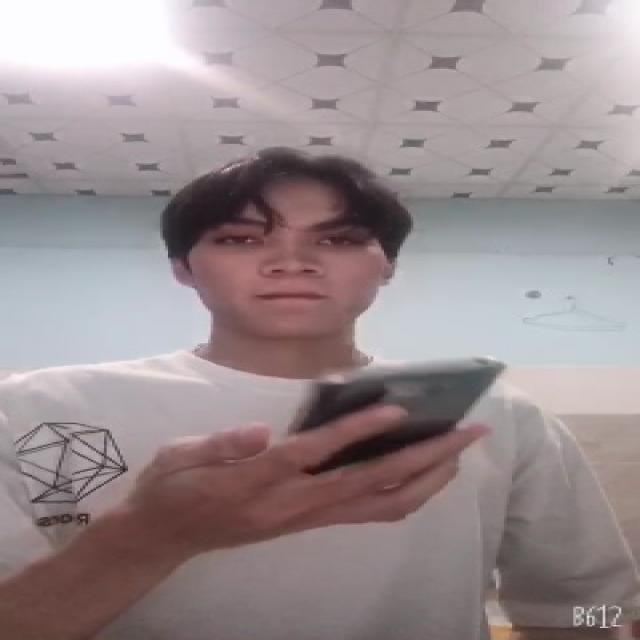Phone: (288, 354, 511, 474)
